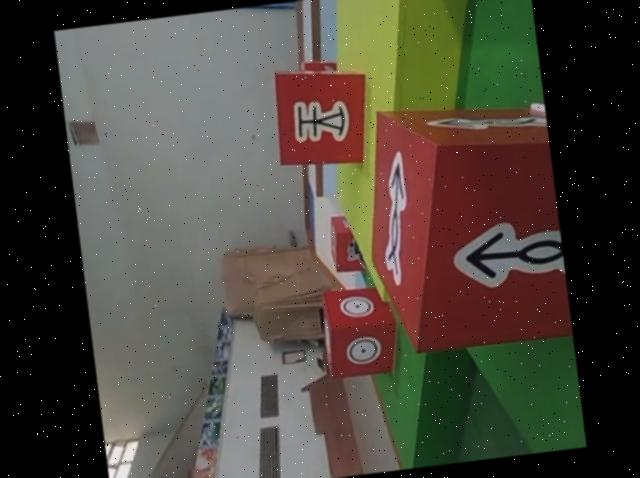R2 Real: (353, 90, 573, 358), (268, 60, 375, 172), (319, 284, 402, 380)
